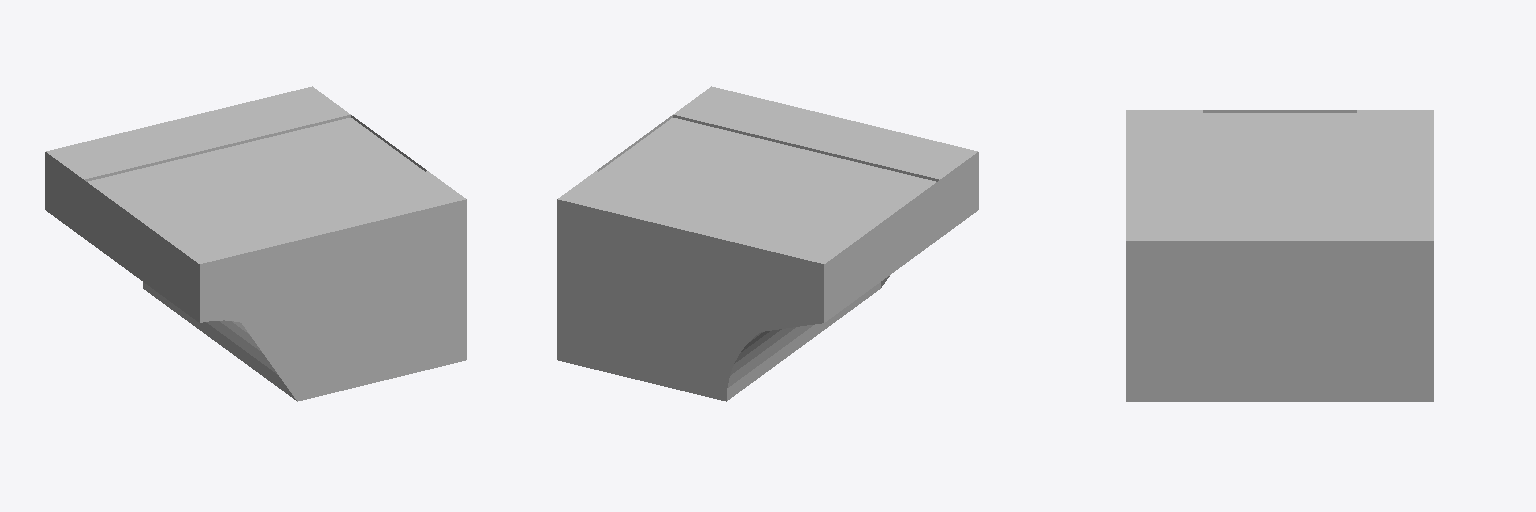
Rendered from roadTile_203.obj.
3 views of the same model, side by side, from view 1: azimuth 30°, elevation 25°; view 2: azimuth 150°, elevation 25°; view 3: azimuth 270°, elevation 25° (orthographic).
Visible parts, largest first — view 1: Mesh1 Group1 Model; view 2: Mesh1 Group1 Model; view 3: Mesh1 Group1 Model.
Boxes of the visible parts, x1=… form: Mesh1 Group1 Model: x1=45, y1=86, x2=466, y2=401; Mesh1 Group1 Model: x1=557, y1=86, x2=978, y2=401; Mesh1 Group1 Model: x1=1126, y1=110, x2=1433, y2=401.
Size of the model in its own units: 3 by 1.73 by 3.